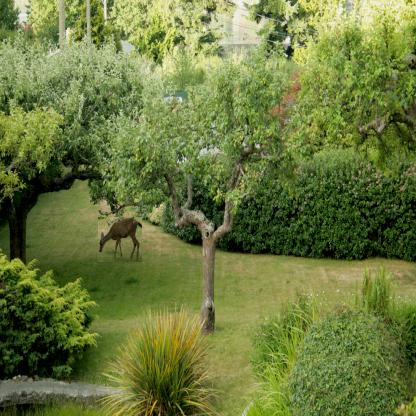Deer: (97, 217, 141, 262)
